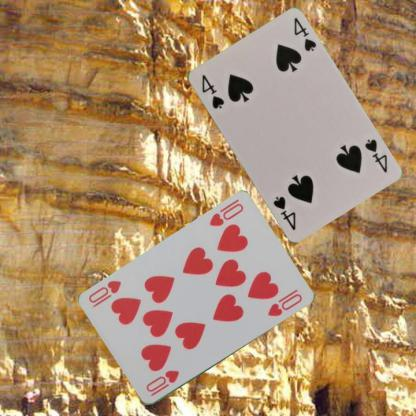10h: (144, 368, 180, 398), (206, 201, 245, 228)
4s: (199, 72, 225, 110), (362, 136, 388, 174)
